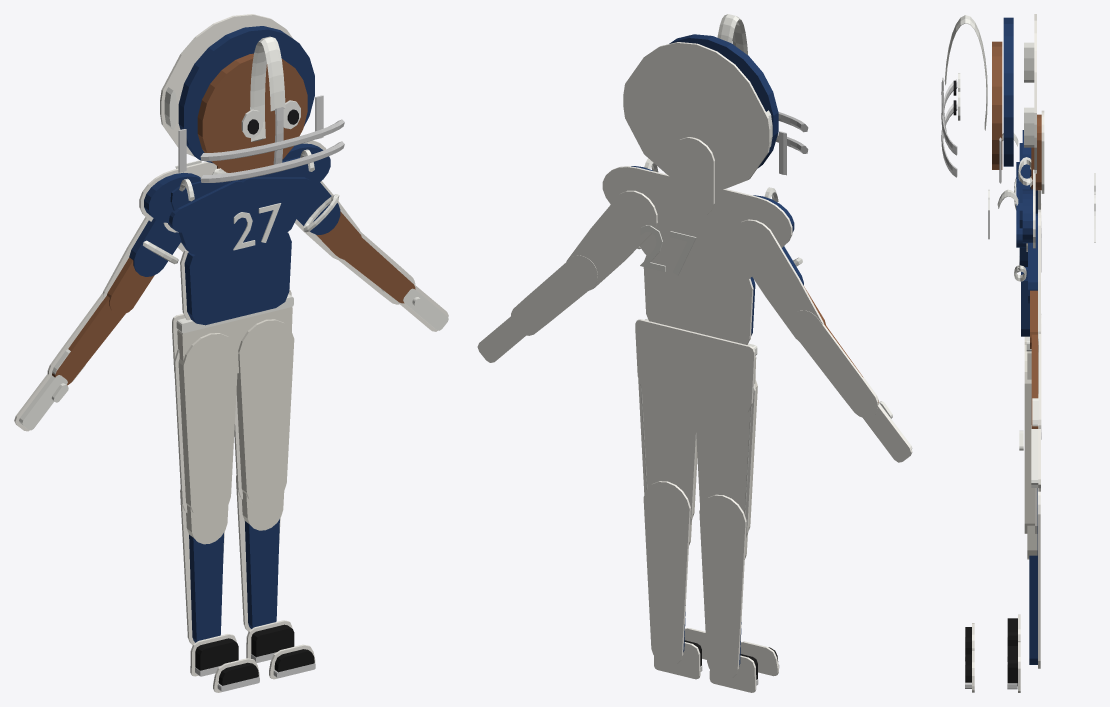
Rendered from paper.glb.
The picture shows the model from 3 angles, left to right: view 1: azimuth 30°, elevation 25°; view 2: azimuth 150°, elevation 25°; view 3: azimuth 270°, elevation 25°; orthographic projection.
Parts seen in each view (by area): view 1: head, thighR, thighL, thorax, lumbar, shankR, shankL, upperArmR, upperArmL, forearmR, pelvis, forearmL (+8 smaller); view 2: head, thorax, pelvis, shankR, shankL, lumbar, thighR, thighL, upperArmR, upperArmL, forearmR, forearmL (+6 smaller); view 3: head, thorax, shankL, thighL, upperArmL, forearmL, neck, handL, footL, lumbar, footR, toesL (+2 smaller).
Part boxes in pixels (bbox=[...]): head: bbox=[160, 14, 344, 182]; thighR: bbox=[174, 333, 238, 519]; thighL: bbox=[234, 319, 294, 506]; thorax: bbox=[139, 140, 330, 255]; lumbar: bbox=[180, 232, 291, 325]; shankR: bbox=[180, 489, 228, 644]; shankL: bbox=[236, 475, 284, 631]; upperArmR: bbox=[102, 217, 181, 314]; upperArmL: bbox=[294, 181, 362, 260]; forearmR: bbox=[47, 293, 125, 385]; pelvis: bbox=[172, 289, 293, 373]; forearmL: bbox=[339, 232, 415, 304]; head: bbox=[623, 14, 808, 191]; thorax: bbox=[602, 158, 794, 281]; pelvis: bbox=[635, 319, 757, 414]; shankR: bbox=[699, 494, 747, 679]; shankL: bbox=[643, 481, 691, 666]; lumbar: bbox=[643, 255, 755, 344]; thighR: bbox=[695, 379, 757, 537]; thighL: bbox=[638, 378, 697, 524]; upperArmR: bbox=[732, 219, 825, 341]; upperArmL: bbox=[566, 190, 657, 290]; forearmR: bbox=[790, 310, 878, 418]; forearmL: bbox=[510, 255, 597, 335]; head: bbox=[941, 14, 1036, 183]; thorax: bbox=[988, 130, 1095, 267]; shankL: bbox=[1027, 488, 1040, 668]; thighL: bbox=[1024, 342, 1037, 533]; upperArmL: bbox=[1014, 209, 1040, 352]; forearmL: bbox=[1031, 314, 1041, 439]; neck: bbox=[1031, 110, 1044, 193]; handL: bbox=[1019, 424, 1040, 491]; footL: bbox=[1007, 642, 1020, 692]; lumbar: bbox=[1021, 267, 1029, 336]; footR: bbox=[1007, 614, 1020, 661]; toesL: bbox=[965, 650, 974, 692].
Size of the model in its own units: 1.48 by 2.11 by 0.4517.
